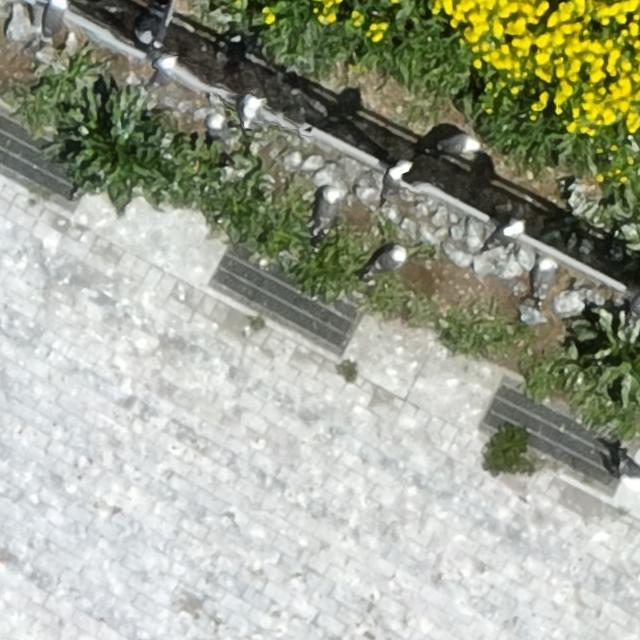umineko: (480, 218, 522, 252), (434, 133, 480, 157), (202, 112, 236, 139), (383, 161, 408, 195), (315, 187, 337, 225), (534, 260, 554, 298), (370, 249, 404, 271), (44, 1, 64, 37), (240, 96, 258, 128)
